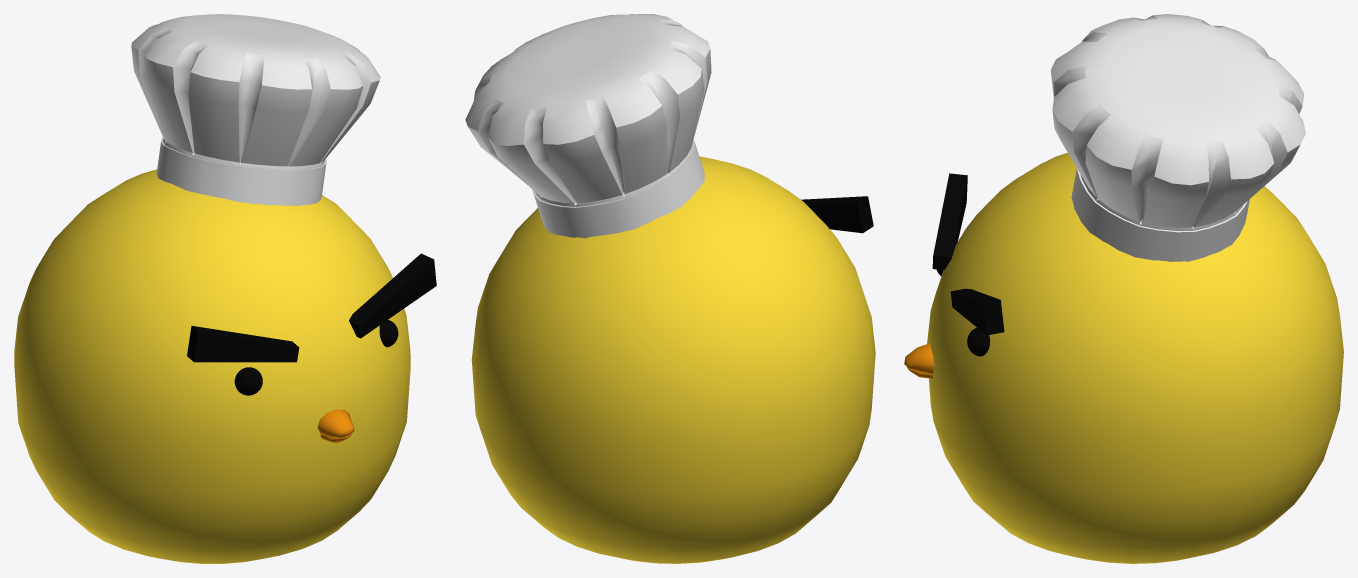
File: Evil Chick.fbx
The picture shows the model from 3 angles, left to right: view 1: azimuth 30°, elevation 25°; view 2: azimuth 150°, elevation 25°; view 3: azimuth 270°, elevation 25°; orthographic projection. The views are drawn at different scales.
Visible parts, largest first — view 1: Chick1, chef_hat, Cube, Cube.001, ChickEyes1, ChickBeak1; view 2: Chick1, chef_hat, Cube; view 3: Chick1, chef_hat, Cube, Cube.001, ChickBeak1.
Boxes of the visible parts, x1,y1,x2,y2 form: Chick1: (14,169,410,563); chef_hat: (131,14,380,205); Cube: (187,325,299,362); Cube.001: (349,253,436,338); ChickEyes1: (234,320,398,395); ChickBeak1: (317,409,354,442); Chick1: (471,156,875,563); chef_hat: (465,14,711,238); Cube: (801,196,873,233); Chick1: (927,153,1343,563); chef_hat: (1050,14,1305,261); Cube: (932,173,967,269); Cube.001: (950,288,1004,335); ChickBeak1: (904,343,934,378).
Size of the model in its own units: 21.09 by 28.5 by 22.24.
